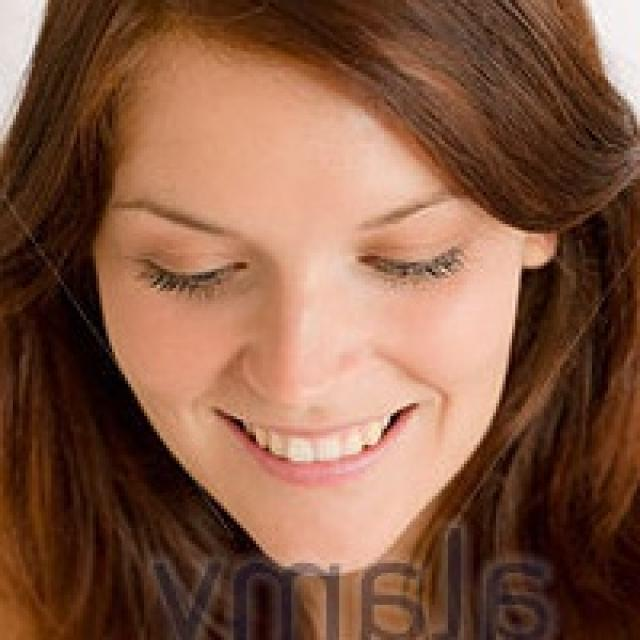Normal: (81, 34, 531, 579)
